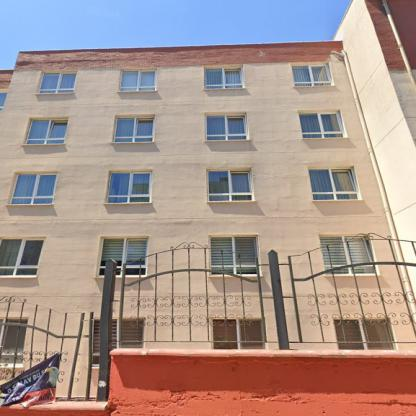window: (320, 236, 374, 273), (336, 318, 394, 348), (98, 239, 147, 274), (212, 238, 258, 272), (0, 240, 44, 275), (308, 168, 357, 199), (10, 174, 56, 205), (215, 320, 264, 347), (107, 172, 151, 202), (209, 171, 252, 200), (114, 116, 156, 141), (1, 320, 27, 360), (206, 115, 248, 139), (112, 319, 145, 349), (300, 113, 343, 136), (24, 120, 67, 142), (38, 72, 76, 93), (204, 67, 242, 88), (120, 70, 157, 91), (294, 66, 330, 86), (1, 93, 7, 110)
